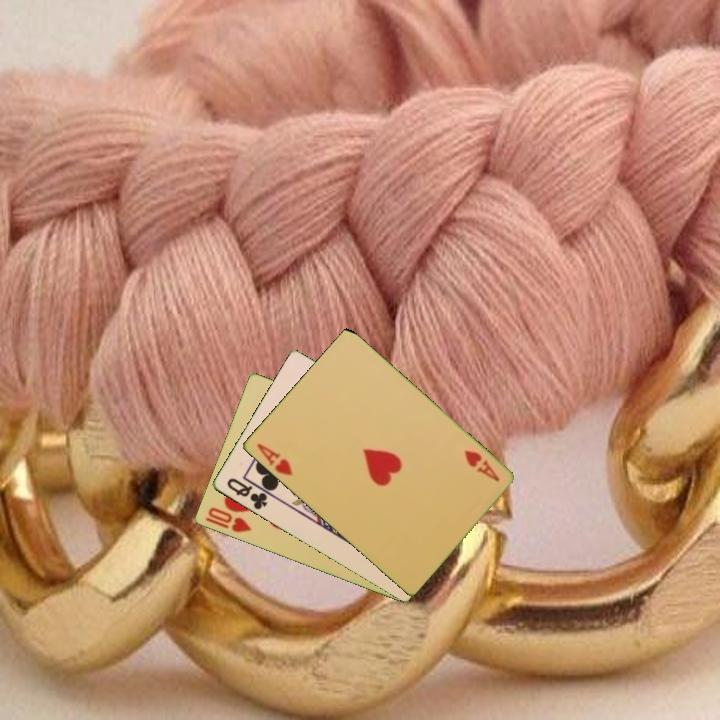10h: (201, 504, 254, 536)
Ah: (252, 440, 295, 479), (460, 446, 502, 485)
Qc: (223, 474, 270, 513)
